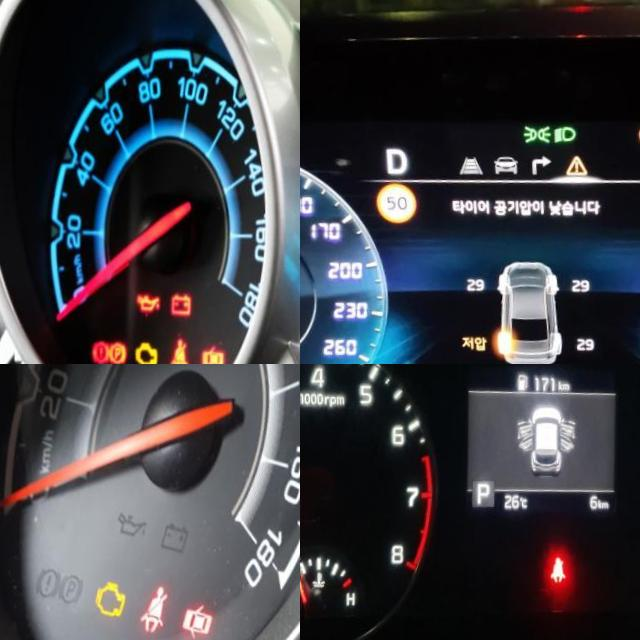Central Warning lamp: (565, 146, 590, 171)
Doors: (182, 594, 219, 638), (203, 337, 228, 364)
Low beam: (552, 117, 578, 139)
SideLamp: (522, 117, 553, 140)
